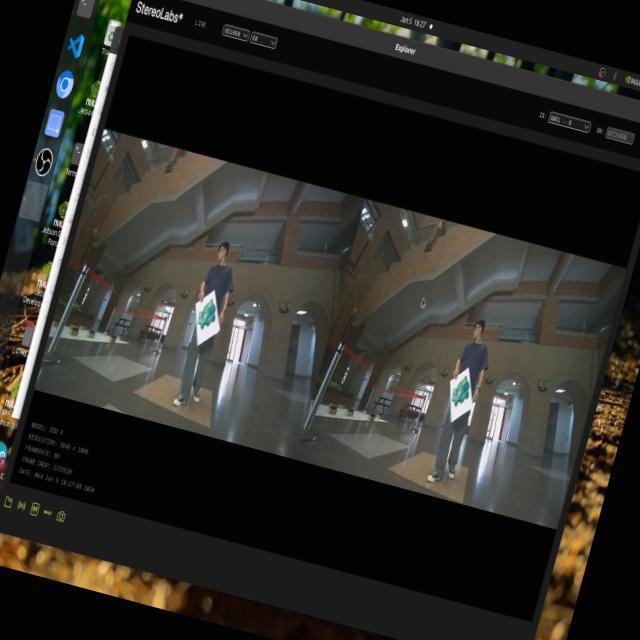green: (443, 364, 486, 411), (186, 290, 224, 334)
